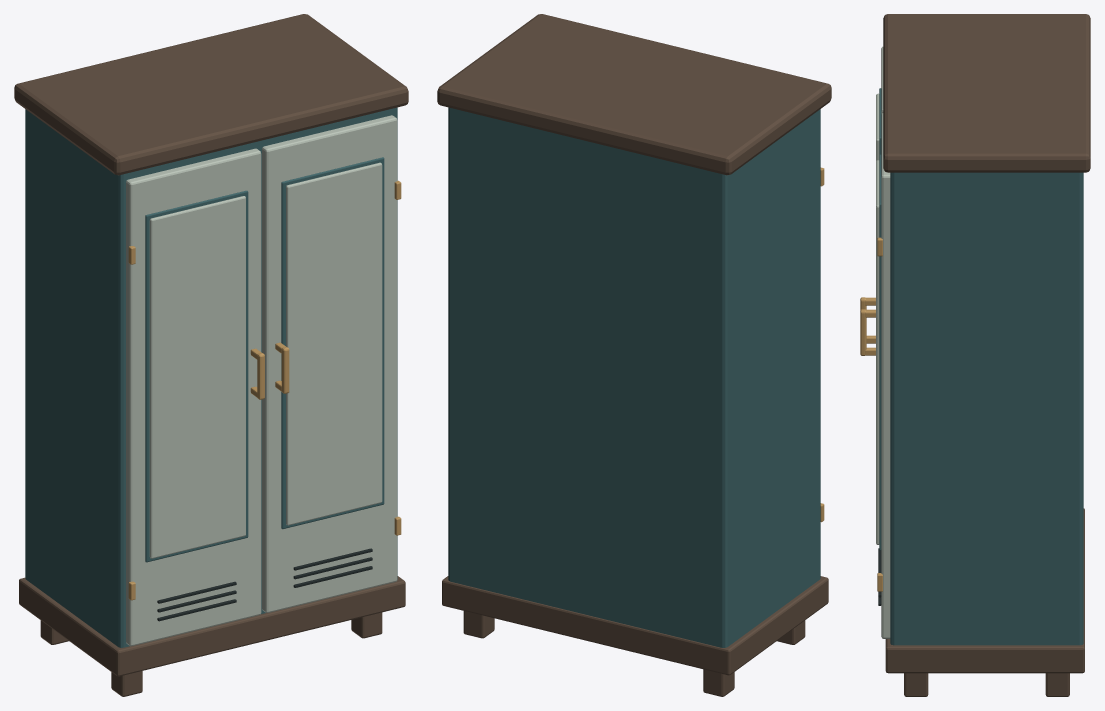
Rendered from SM_BunkerWardrobe.fbx.
3 views of the same model, side by side, from view 1: azimuth 30°, elevation 25°; view 2: azimuth 150°, elevation 25°; view 3: azimuth 270°, elevation 25° (orthographic).
Visible parts, largest first — view 1: SM_BunkerWardrobe; view 2: SM_BunkerWardrobe; view 3: SM_BunkerWardrobe.
Part boxes in pixels (box(x1,y1,x2,y2)): SM_BunkerWardrobe: box(14, 14, 408, 696); SM_BunkerWardrobe: box(437, 14, 831, 696); SM_BunkerWardrobe: box(860, 14, 1090, 696).
Size of the model in its own units: 106 by 71.65 by 189.
